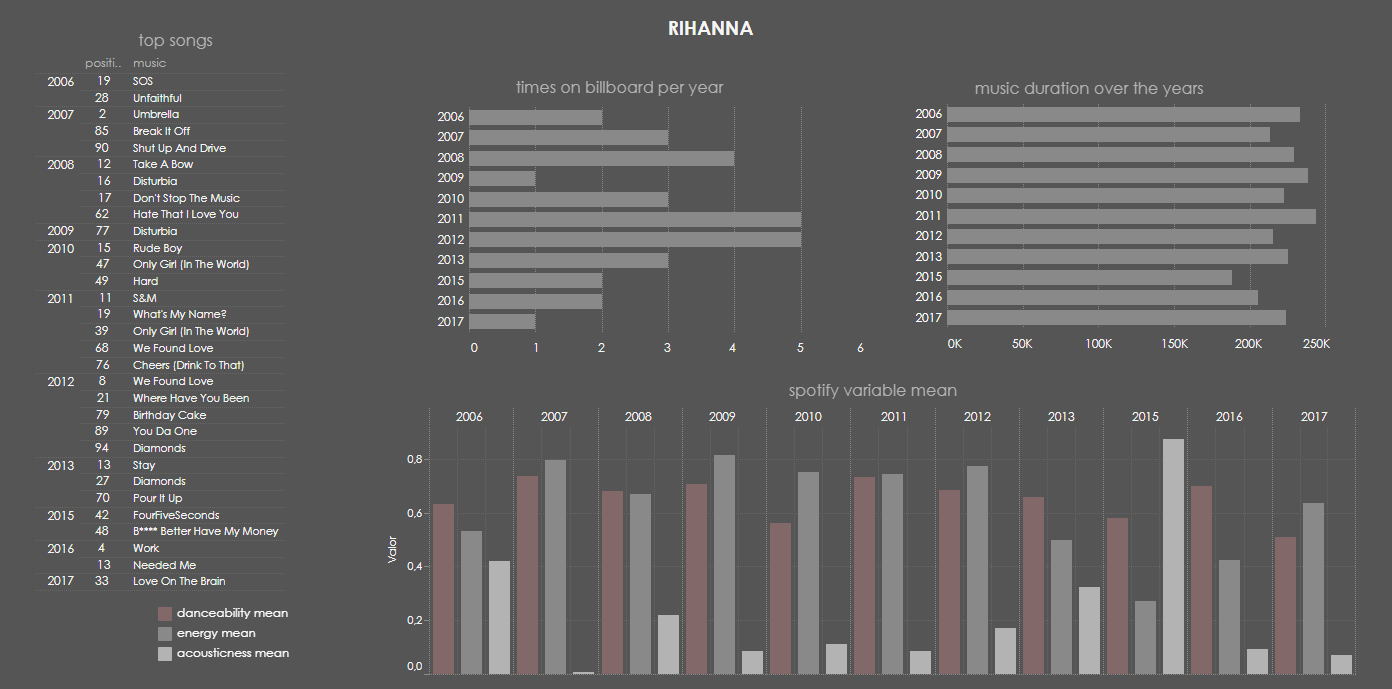

What the dashboard file says about the page in this screenshot:
{"tool":"tableau","page":{"name":"05","canvas":[1000,1000],"units":"permille","ordinal":4},"visuals":[{"type":"text","box":[75.3,15.2,93.5,81.1]},{"type":"worksheet","title":"r_rank","mark":"Automatic","rows":["year","rank-classification (copy)_441352812321824769","music"],"cols":["main_artist"],"box":[19.9,45.6,224.2,802.4]},{"type":"text","box":[347.2,82.8,192.2,81.1]},{"type":"text","box":[700.4,84.5,209.5,81.1]},{"type":"worksheet","title":"r_duration","mark":"Bar","rows":["year"],"cols":["main_artist","duration_ms"],"box":[622.5,148.7,337.7,364.9]},{"type":"worksheet","title":"r_times_year","mark":"Bar","rows":["year"],"cols":["main_artist","Number of Records"],"box":[302.2,152,321.2,368.2]},{"type":"text","box":[548.1,518.6,157.6,81.1]},{"type":"worksheet","title":"r_measures","mark":"Bar","cols":["main_artist","year"],"box":[267.5,582.8,709.1,385.1]},{"type":"legend","title":"r_measures","param":"[federated.00jieeo0hywcyu159gdzd0c7lh80].[:Measure Names]","box":[107.4,866.6,181.8,121.6]}]}

Visuals, with their boxes on the dashboard's canvas, which has no fixed pixel size, in thousandths of its width and height (x1, y1, x2, y2). These are canvas units, not pixel positions in the 1392x689 screenshot, which may show the page scaled, cropped or inside an application window:
text: BBox(75, 15, 169, 96)
"r_rank" worksheet: BBox(20, 46, 244, 848)
text: BBox(347, 83, 539, 164)
text: BBox(700, 84, 910, 166)
"r_duration" worksheet (Bar marks): BBox(622, 149, 960, 514)
"r_times_year" worksheet (Bar marks): BBox(302, 152, 623, 520)
text: BBox(548, 519, 706, 600)
"r_measures" worksheet (Bar marks): BBox(268, 583, 977, 968)
"r_measures" legend: BBox(107, 867, 289, 988)
